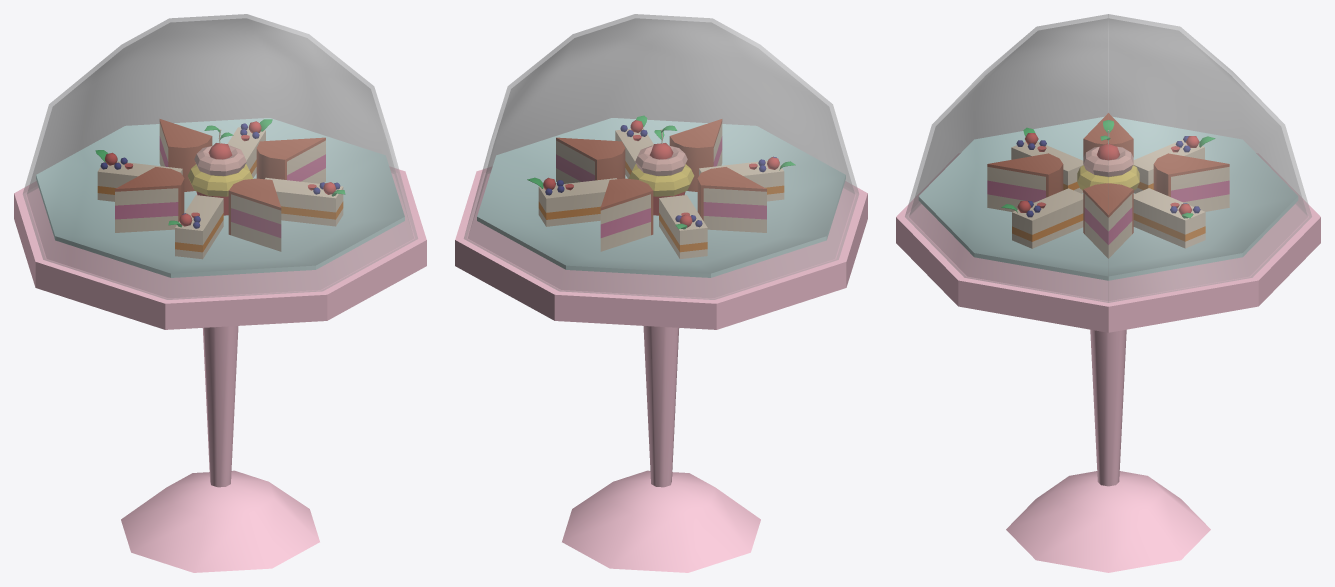
Rendered from Bakery_lv1.fbx.
3 renders of one model, left to right at view 1: azimuth 30°, elevation 25°; view 2: azimuth 150°, elevation 25°; view 3: azimuth 270°, elevation 25°, orthographic.
Visible parts, largest first — view 1: Bakery_lv1; view 2: Bakery_lv1; view 3: Bakery_lv1.
Part boxes in pixels (x1,y1,x2,y2): Bakery_lv1: (14, 14, 426, 572); Bakery_lv1: (455, 14, 867, 572); Bakery_lv1: (896, 14, 1320, 572).
Bounding box in the file's own units: 189 × 245 × 189.
